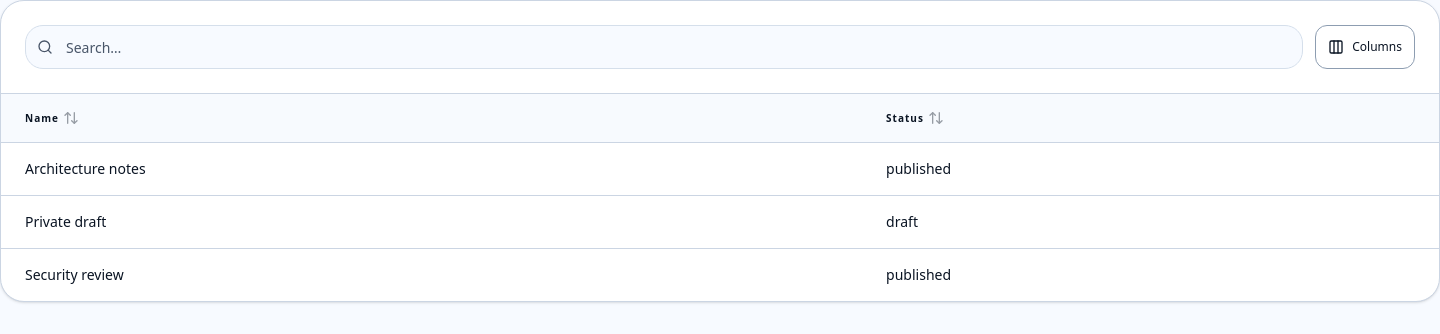
Test: DataTable interactions › filters locally and exposes an honest empty state
Type "missing" into the search field named "Search table" at (664, 47), box [25,25,1303,69]
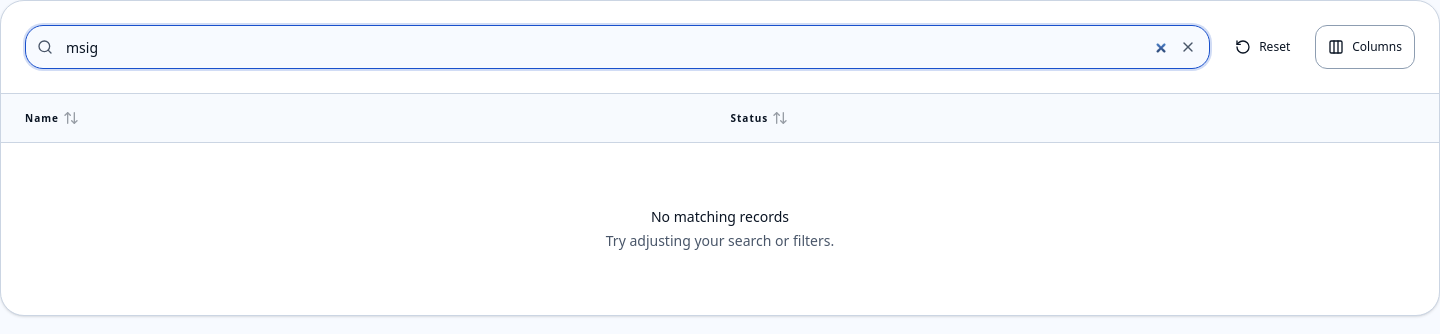
Check: the text "No matching records" is shown, box [651,207,789,227]
